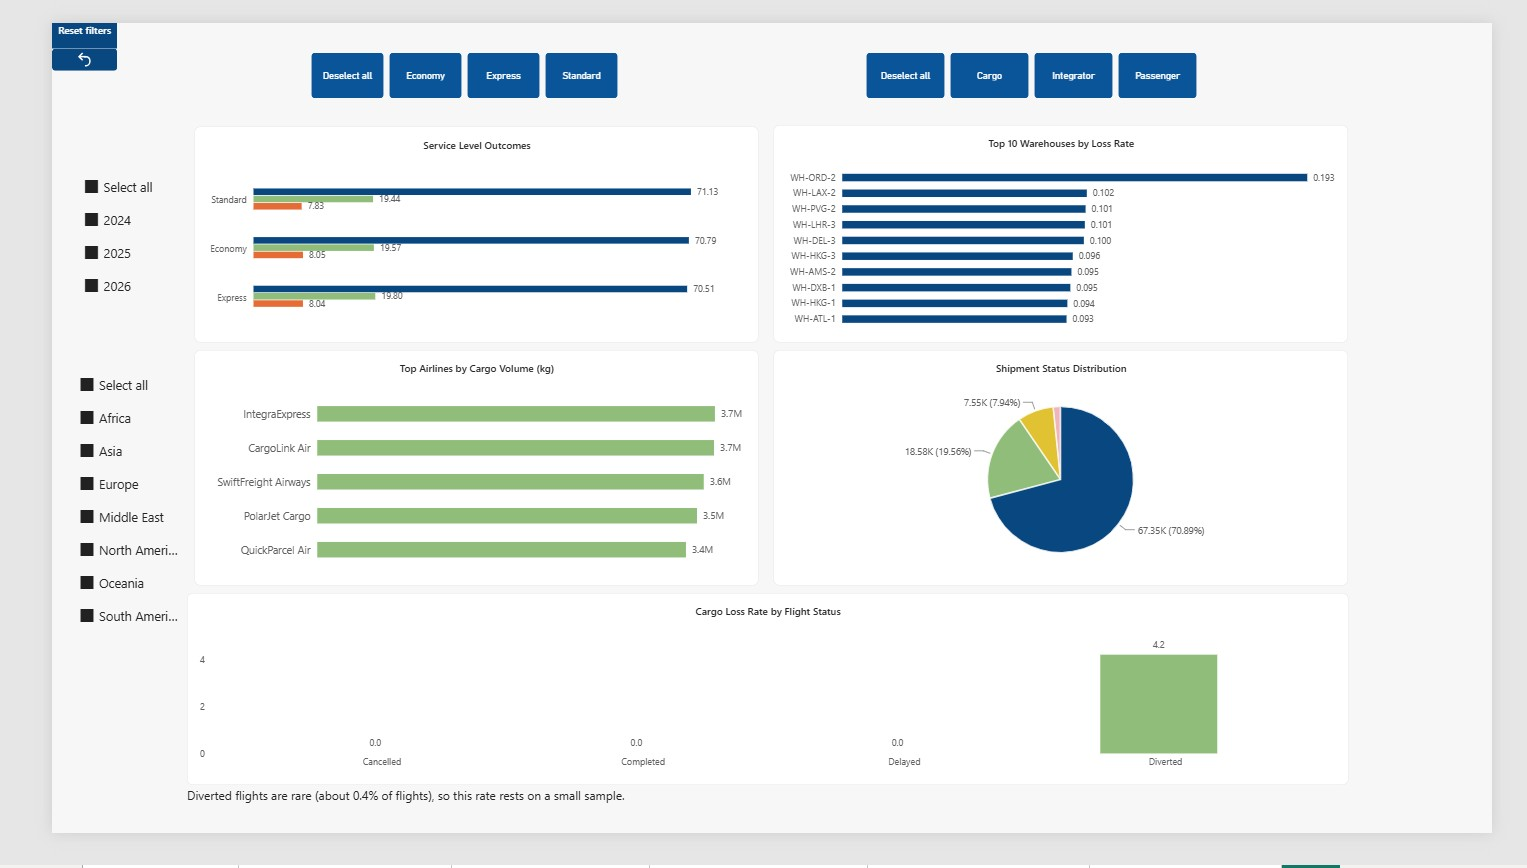

The page's visual inventory and layout, read from the dashboard file:
{"tool":"powerbi","page":{"name":"Cargo & Shipments","canvas":[1920,1080],"ordinal":3},"visuals":[{"type":"shape","box":[0,0,178.6,1080],"z":0},{"type":"clusteredBarChart","title":"Service Level Outcomes","fields":{"Category":["shipments.service_type"],"Y":["Measure Table.Delivery_Rate_Pct","Measure Table.Delayed_Rate_Pct","Measure Table.Lost_Rate_Pct"]},"box":[190,138,752,288],"z":1000},{"type":"barChart","title":"Top 10 Warehouses by Loss Rate","fields":{"Category":["warehouses.code"],"Y":["Measure Table.Warehouse_Loss_Rate"]},"box":[962,136,766,290],"z":2000},{"type":"barChart","title":"Top Airlines by Cargo Volume (kg)","fields":{"Category":["airlines.name"],"Y":["Sum(shipments.weight_kg)"]},"box":[190,436.9,752,314],"z":3000},{"type":"slicer","title":"Year","fields":{"Values":["flights.Year"]},"box":[22.9,165.7,134,230],"z":4000},{"type":"slicer","title":"Region","fields":{"Values":["airports.region"]},"box":[22.9,414.3,140,408],"z":5000},{"type":"pieChart","title":"Shipment Status Distribution","fields":{"Category":["shipments.status"],"Y":["CountNonNull(shipments.shipment_id)"]},"box":[962,436.9,766,314],"z":6000},{"type":"clusteredColumnChart","title":"Cargo Loss Rate by Flight Status","fields":{"Category":["flights.status"],"Y":["Measure Table.Cargo Loss Rate"]},"box":[179.7,759.4,1548.4,256.2],"z":7000},{"type":"actionButton","title":"Reset filters","box":[2,0,175,65],"z":8000},{"type":"textbox","box":[179.7,1018.8,739.1,47.3],"z":9000},{"type":"advancedSlicerVisual","fields":{"Values":["shipments.service_type"]},"box":[346,40,410,60],"z":10000},{"type":"advancedSlicerVisual","fields":{"Values":["airlines.carrier_type"]},"box":[1086,40,440,60],"z":11000},{"type":"pageNavigator","box":[10,860,158,200],"z":12000}]}

Visuals, with their boxes in screenshot pixels (x1, y1, x2, y2), scaled from the page's 1920x1080 canvas onto the 1527x868 screenshot:
shape: box(0, 0, 142, 867)
"Service Level Outcomes" clusteredBarChart: box(151, 111, 749, 342)
"Top 10 Warehouses by Loss Rate" barChart: box(765, 109, 1374, 342)
"Top Airlines by Cargo Volume (kg)" barChart: box(151, 351, 749, 604)
"Year" slicer: box(18, 133, 125, 318)
"Region" slicer: box(18, 333, 130, 661)
"Shipment Status Distribution" pieChart: box(765, 351, 1374, 604)
"Cargo Loss Rate by Flight Status" clusteredColumnChart: box(143, 610, 1374, 816)
"Reset filters" actionButton: box(2, 0, 141, 52)
textbox: box(143, 819, 731, 857)
advancedSlicerVisual - shipments.service_type: box(275, 32, 601, 80)
advancedSlicerVisual - airlines.carrier_type: box(864, 32, 1214, 80)
pageNavigator: box(8, 691, 134, 852)
